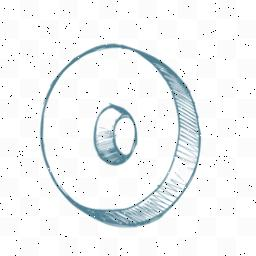o: (36, 36, 208, 234)
